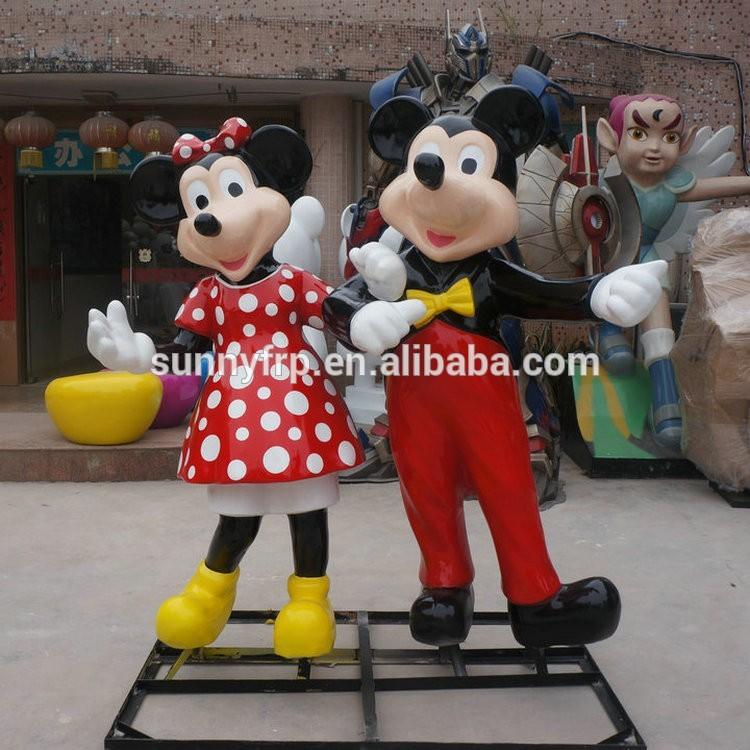Mickey: (363, 84, 548, 265)
